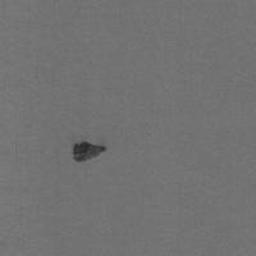Inclusion: (73, 141, 106, 162)
